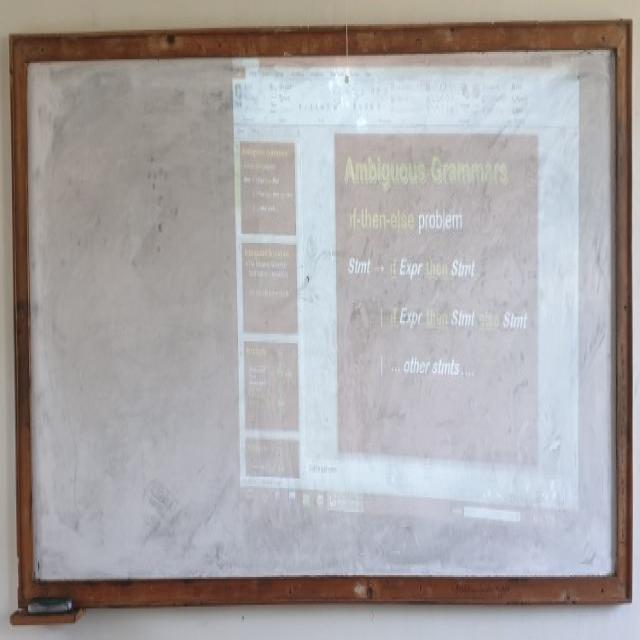Slide: (230, 44, 579, 537)
White-board: (17, 36, 627, 596)
